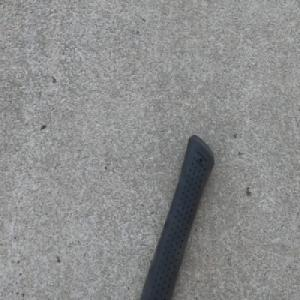Hammer: (138, 131, 216, 300)
